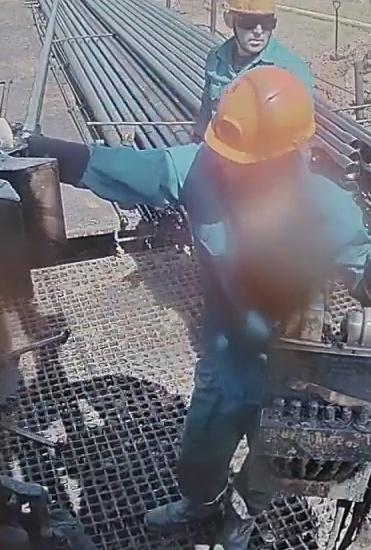gloves: (0, 117, 54, 172)
goggles: (230, 12, 278, 30)
helmet: (203, 65, 316, 164), (225, 0, 279, 15)
vest: (185, 145, 340, 405)
